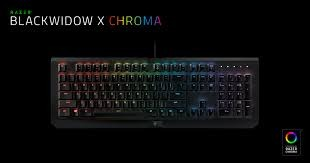keyboard: (49, 56, 260, 131)
